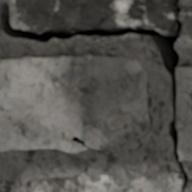brick: (0, 55, 151, 152), (176, 67, 191, 160)
broken_brick: (14, 0, 191, 35), (28, 169, 182, 191), (186, 179, 191, 191)
crack: (0, 0, 190, 191), (71, 136, 93, 150), (174, 0, 181, 13)
